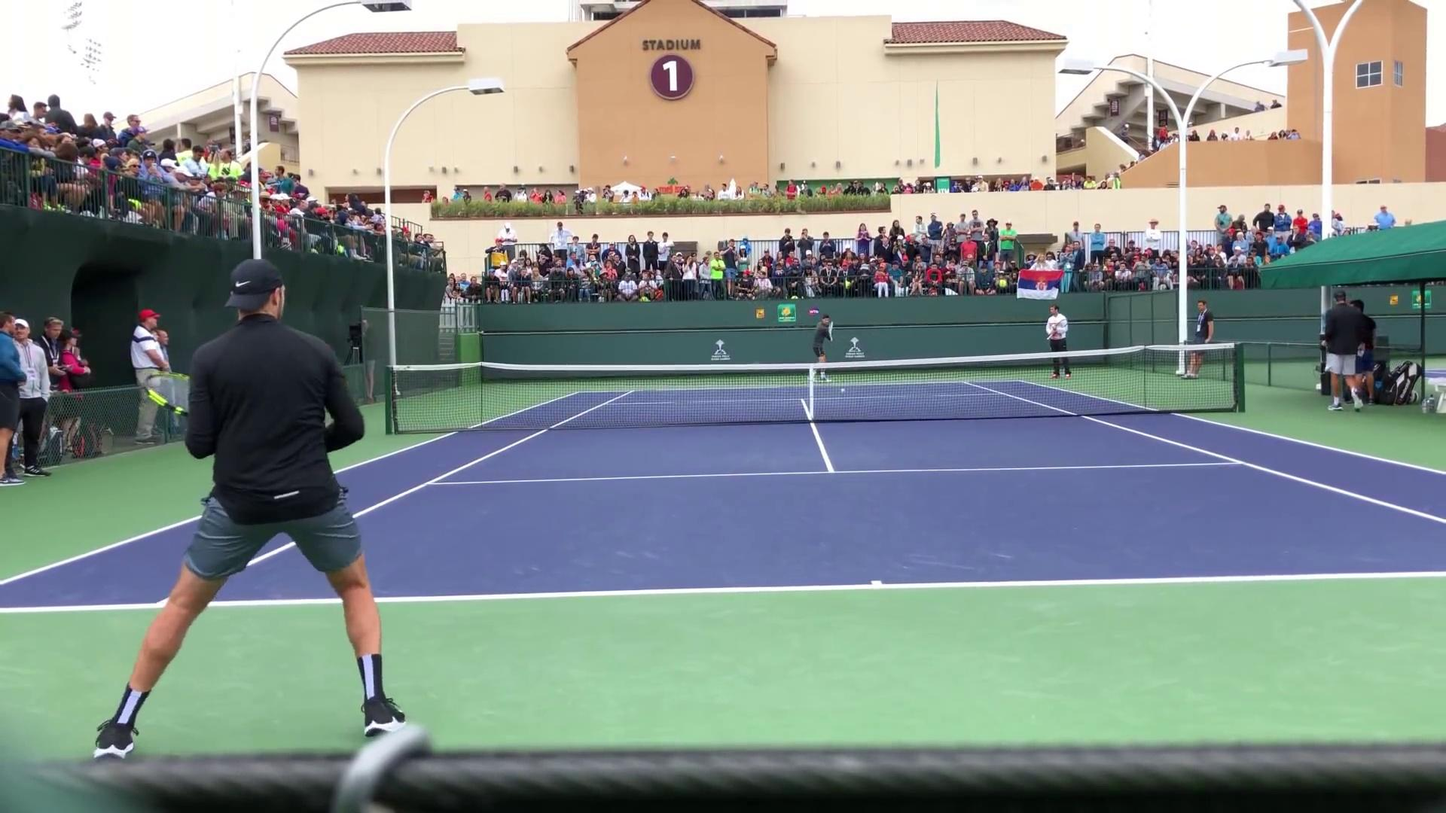ball: (839, 387, 846, 394)
